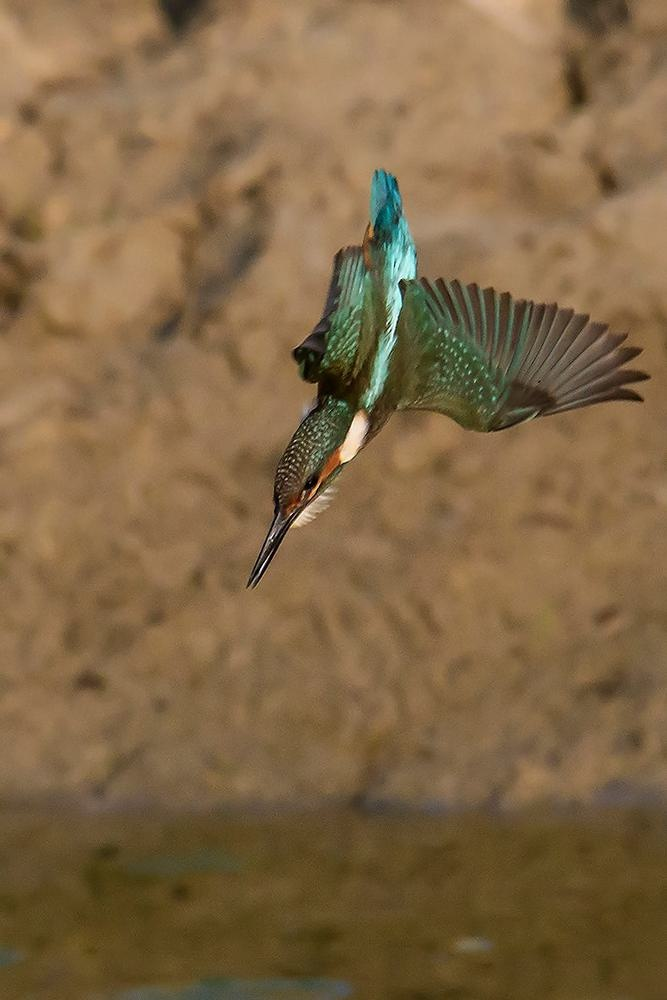kingfisher: (211, 158, 661, 559)
